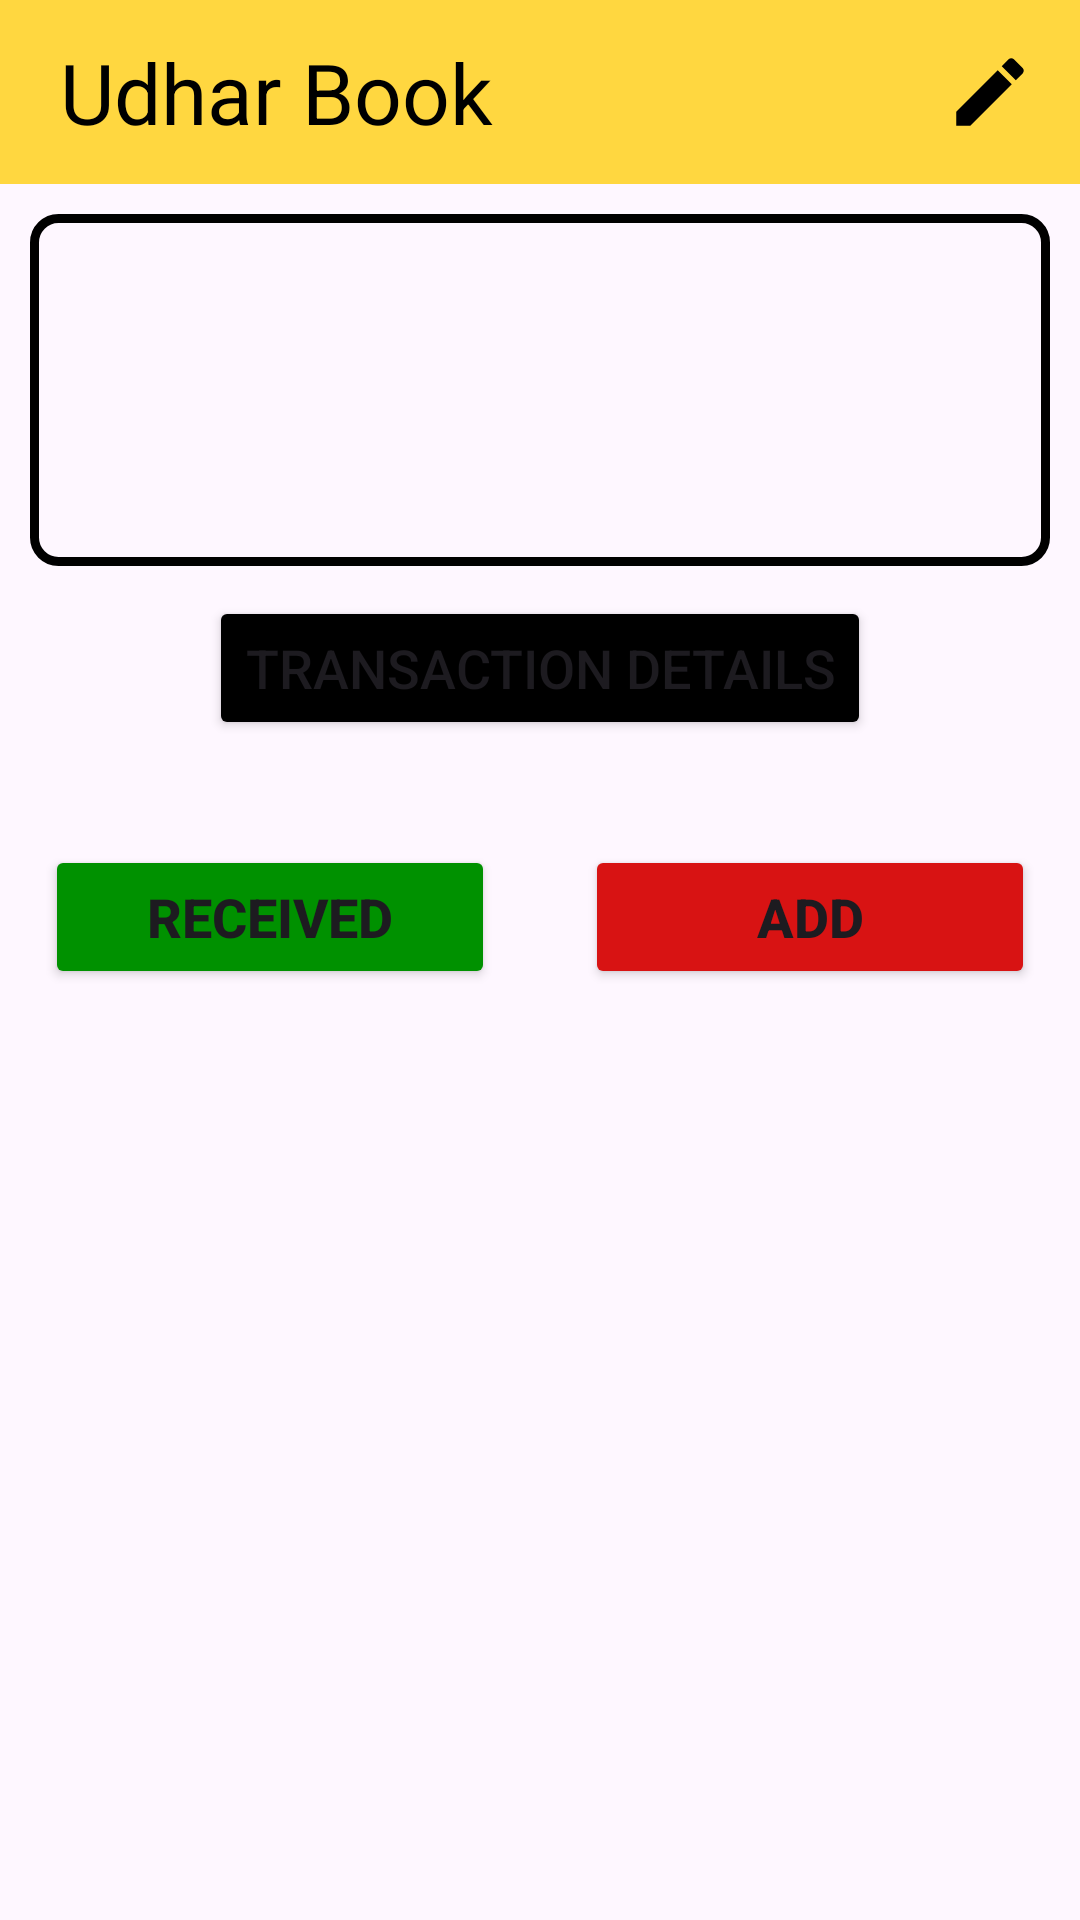

Screen size 1080px x 1920px. Icon name, then its center in pixels as point (x, y):
Edit: point (990, 92)
